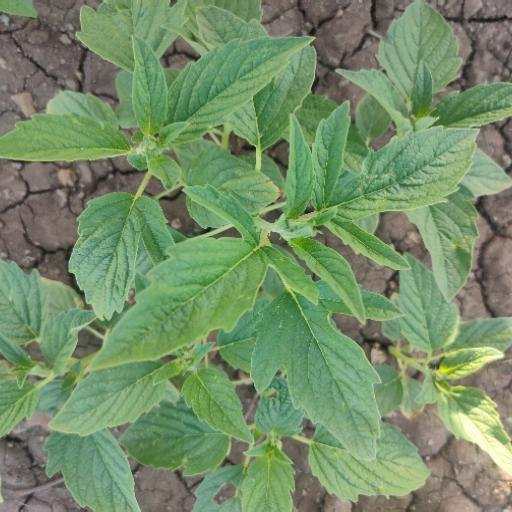crop: (1, 1, 512, 508)
